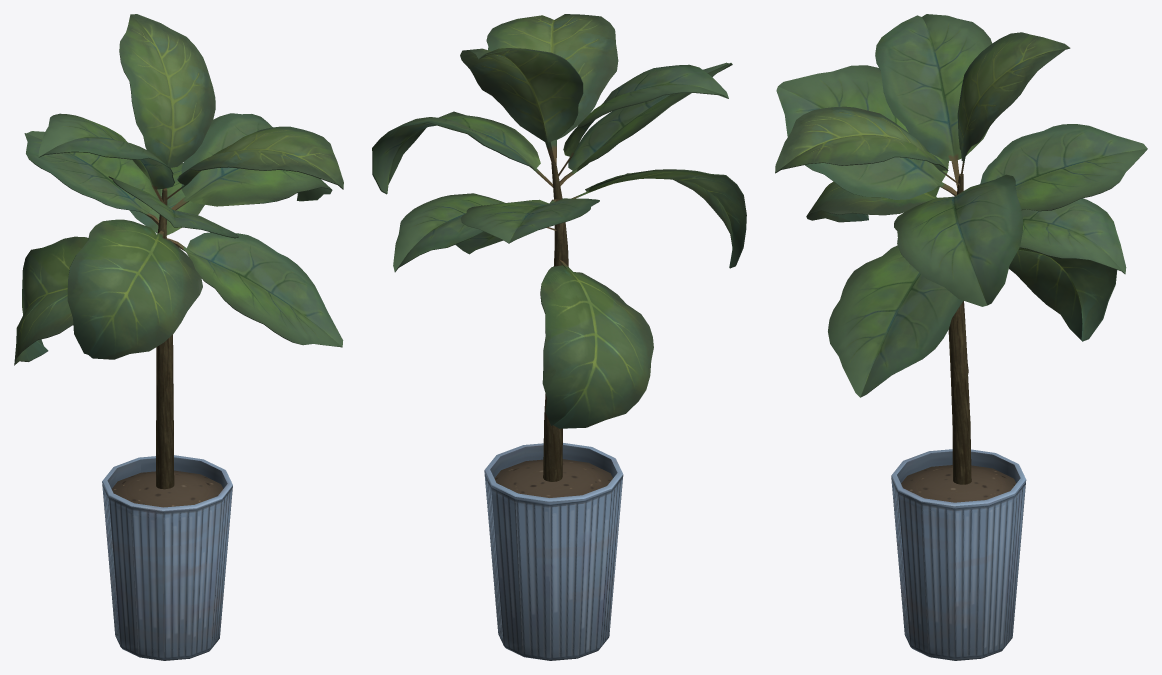
Rendered from figTree2.gltf.
3 renders of one model, left to right at view 1: azimuth 30°, elevation 25°; view 2: azimuth 150°, elevation 25°; view 3: azimuth 270°, elevation 25°, orthographic. The views are drawn at different scales.
Visible parts, largest first — view 1: polySurface26838; view 2: polySurface26838; view 3: polySurface26838.
Boxes of the visible parts, <box> form: polySurface26838: <box>14,14,343,660</box>; polySurface26838: <box>372,14,746,660</box>; polySurface26838: <box>775,14,1147,660</box>.
Bounding box in the file's own units: 78.75 × 149 × 82.97.
Materials: 2 (1 with a texture image).
